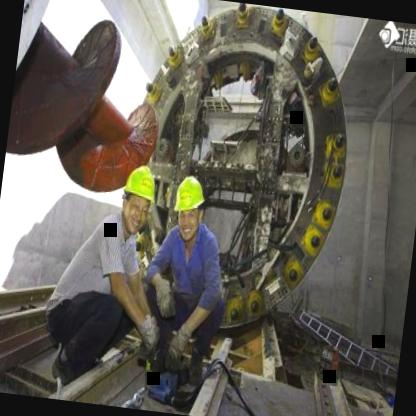helmet: (116, 158, 161, 236), (168, 168, 210, 240)
